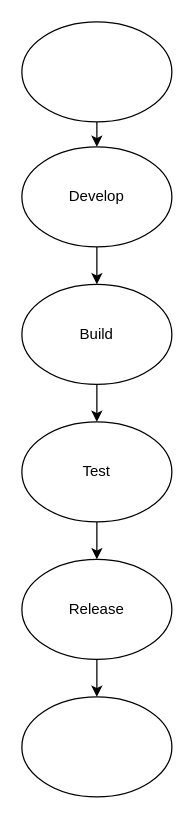
This 194x819 diagram has some shape labels left out. The shapes that lost their labels are listed below. From the top down, each one's centre as x and y in pixels, then its label:
point 96,71: Plan
point 96,746: Operater
